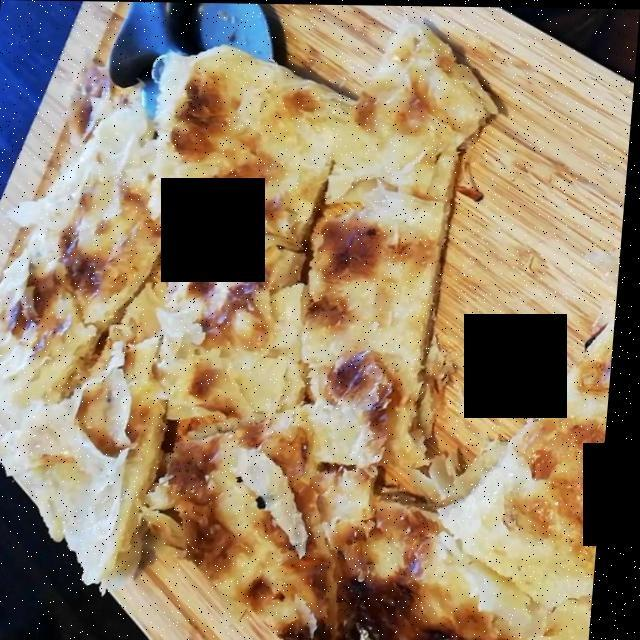bread: (0, 38, 615, 640)
